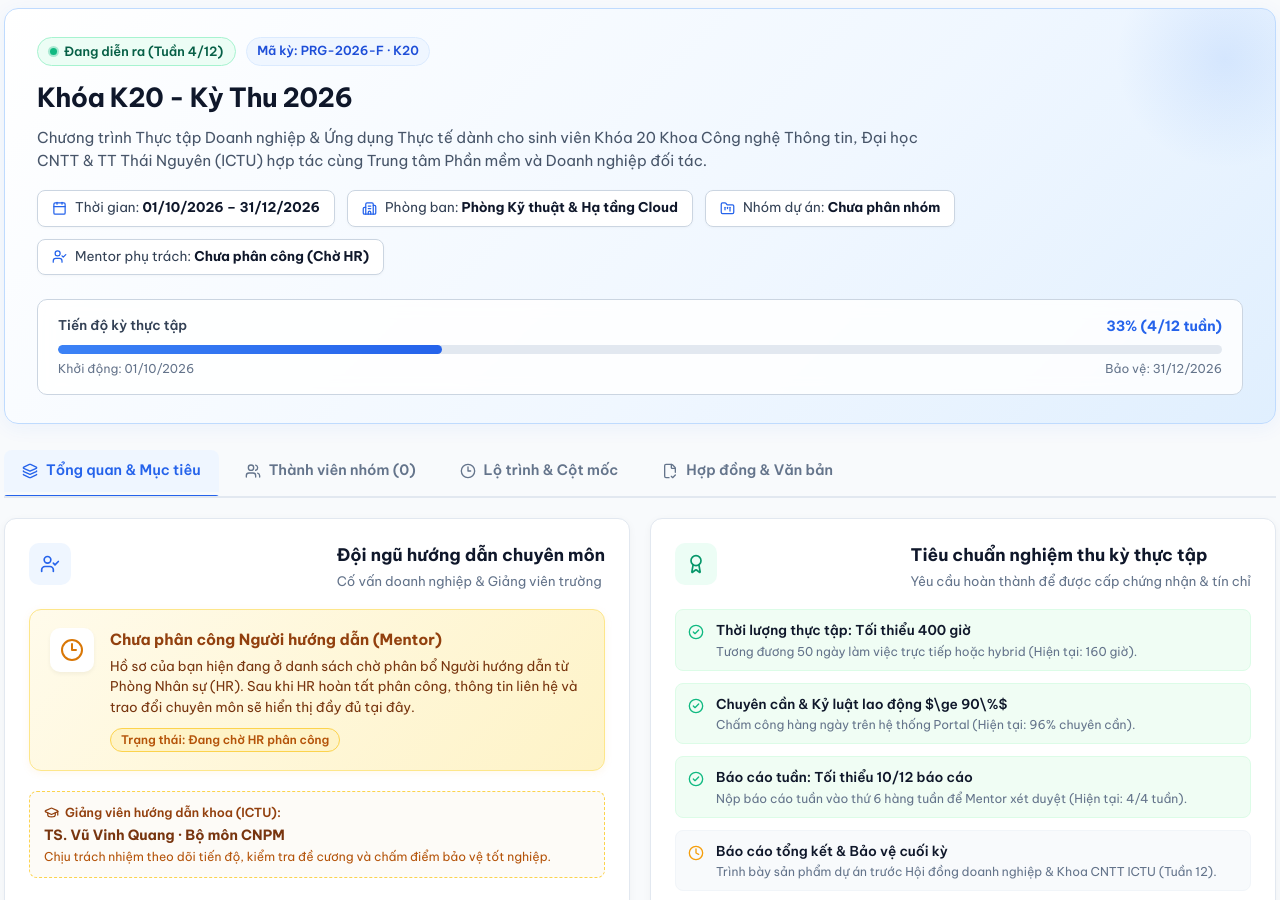
Test: InternProgramPage Component Test Suite (Tab Kỳ thực tập của TTS) › 9. Khi sinh viên chưa được phân vào nhóm dự án cụ thể: Tab thành viên nhóm hiển thị trạng thái chờ phân nhóm rõ ràng thay vì danh sách giả lập
Click the button "Thành viên nhóm (0)": point(330, 471) [227,450,434,492]
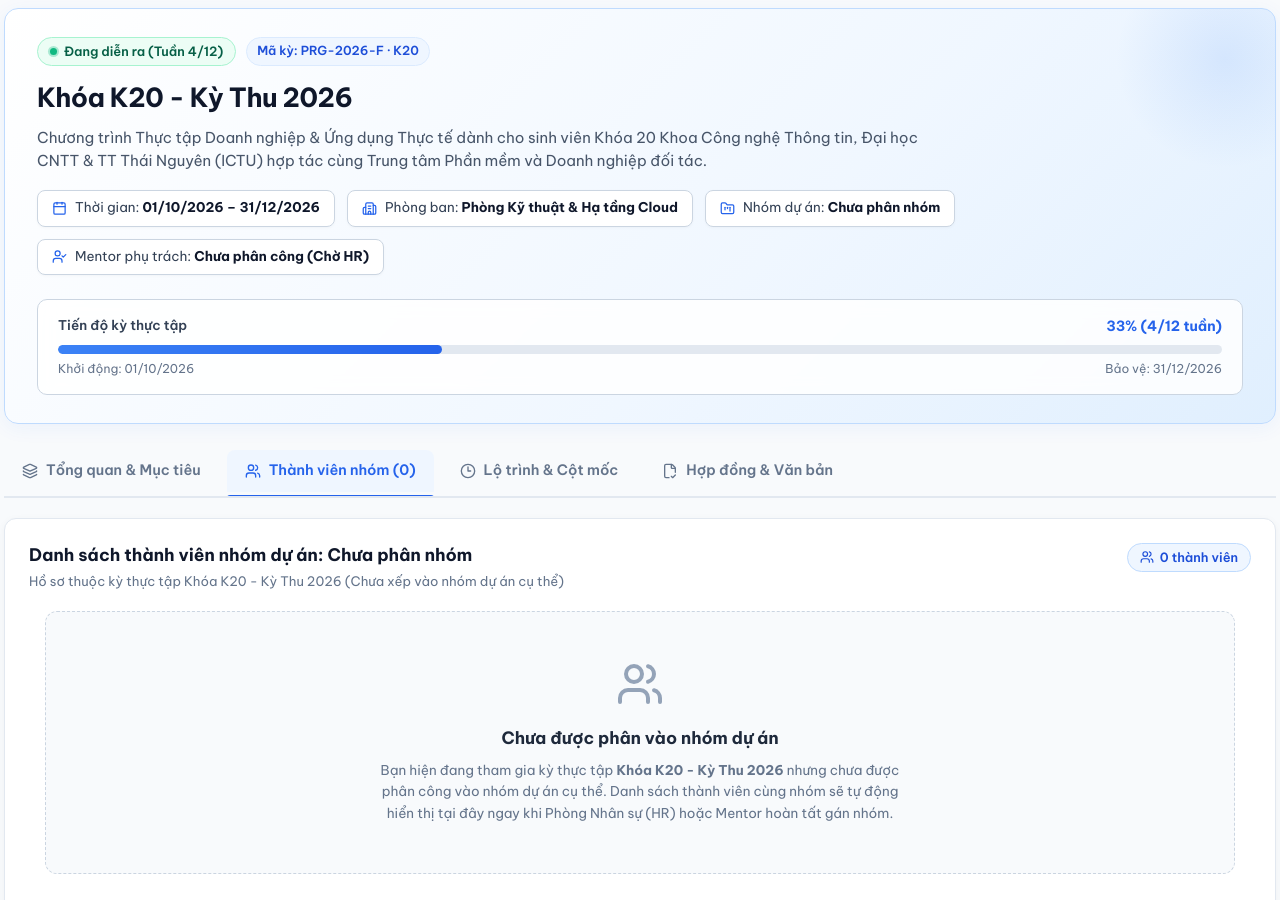
Result: the heading "Chưa được phân vào nhóm dự án" is shown at [501,727,779,749]
Result: the text "Danh sách thành viên cùng nhóm sẽ tự động hiển thị" is shown at [382,761,899,822]
